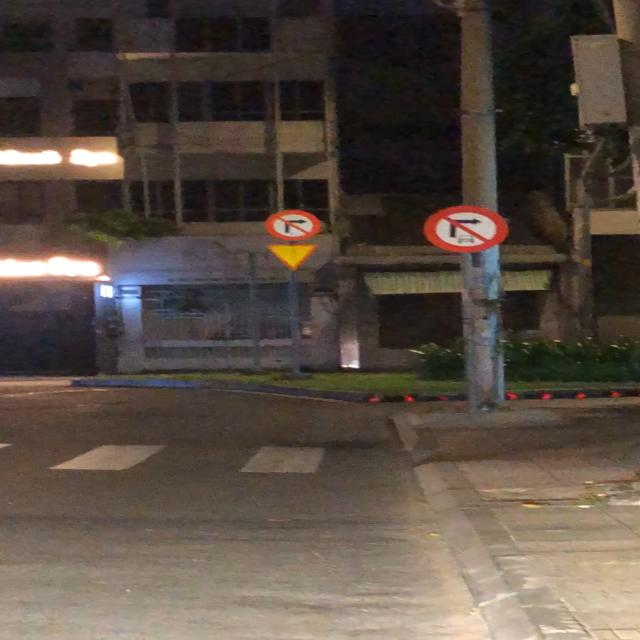Bien bao cam re phai: (263, 208, 324, 242)
Bien bao cam xe o to re phai: (422, 204, 512, 256)
Bien bao giao nhau voi duong uu tien: (261, 243, 323, 274)
